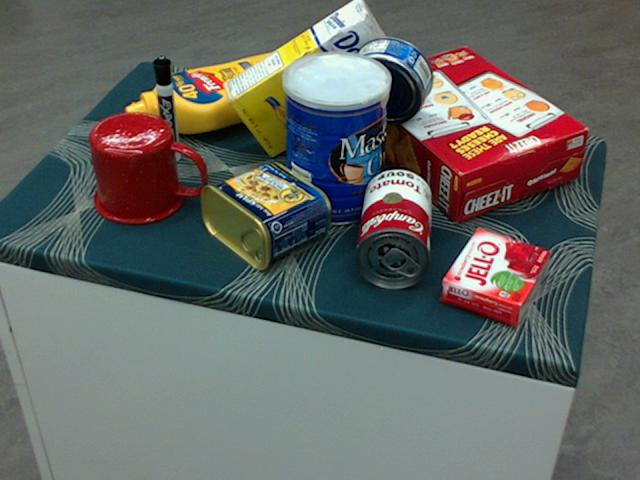cracker_box: (347, 45, 585, 223)
gelatin_box: (440, 228, 548, 324)
large_marker: (151, 55, 181, 162)
master_chef_can: (281, 52, 389, 227)
mug: (89, 111, 205, 225)
mustard_bottle: (123, 52, 298, 133)
potted_meat_can: (197, 161, 329, 270)
sugar_box: (219, 0, 406, 158)
tomato_soup_can: (352, 168, 433, 288)
tuna_fish_can: (345, 35, 433, 122)
